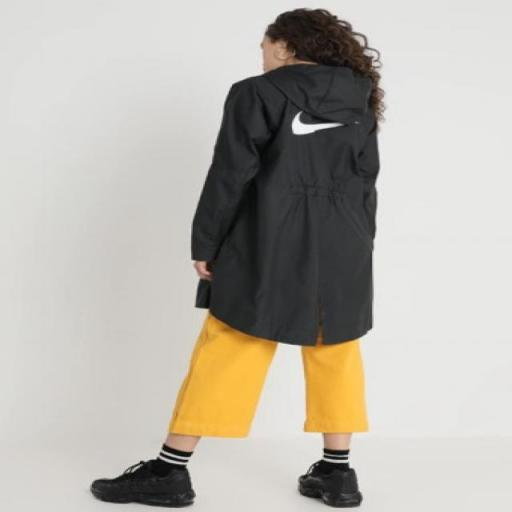Nike: (288, 107, 364, 133)
